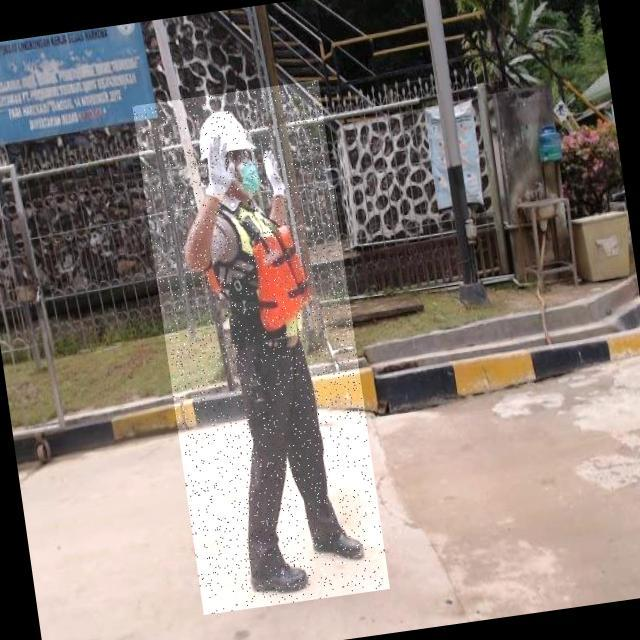Gloves: (194, 129, 244, 209), (258, 144, 295, 207)
Helmet: (193, 108, 256, 160)
Person: (154, 79, 401, 627)
Safety Boot: (247, 551, 313, 600), (309, 521, 367, 565)
Safety Vest: (209, 195, 315, 352)
